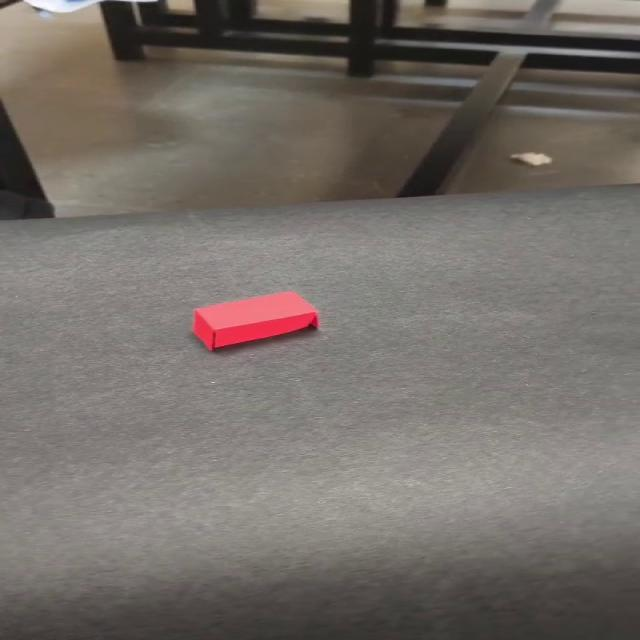red block: (189, 290, 319, 351)
